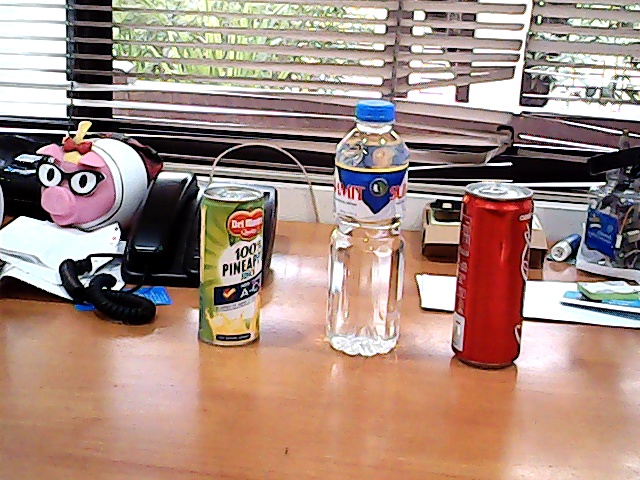Cola: (440, 177, 543, 377)
Pine Juice: (190, 171, 275, 352)
Summit Water: (317, 92, 428, 359)
